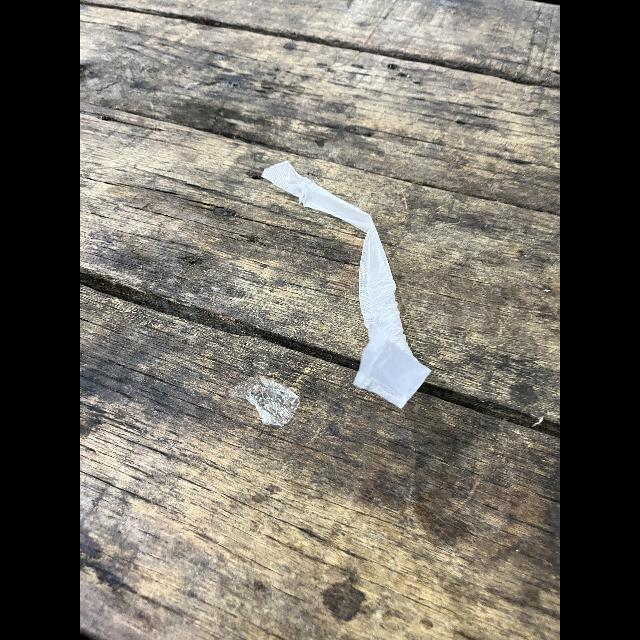scrap_plastic: (264, 153, 432, 413), (236, 366, 310, 429)
